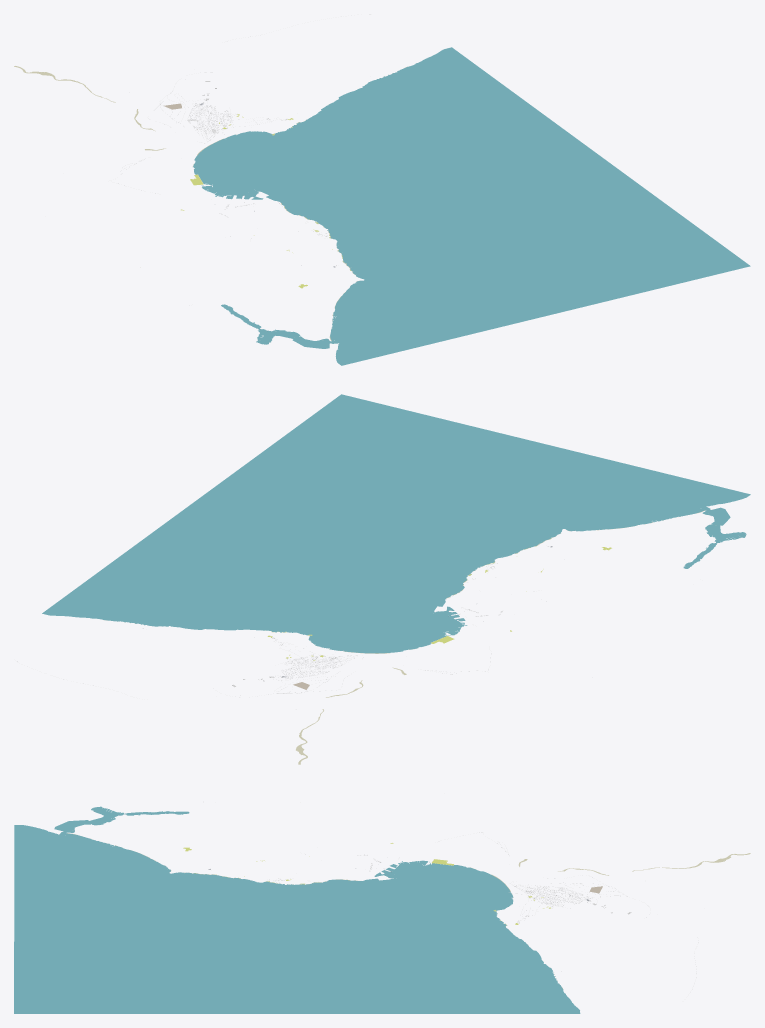
File: TILE_05_00.glb
3 views of the same model, one above another, from view 1: azimuth 30°, elevation 25°; view 2: azimuth 150°, elevation 25°; view 3: azimuth 270°, elevation 25° (orthographic). The views are drawn at different scales.
Visible parts, largest first — view 1: WEB_bay; view 2: WEB_bay; view 3: WEB_bay, WEB_natural_be.
Part boxes in pixels (x1,y1,x2,y2): WEB_bay: (193, 47, 750, 365); WEB_bay: (42, 394, 750, 653); WEB_bay: (14, 806, 580, 1013); WEB_natural_be: (67, 833, 750, 989).
Bounding box in the file's own units: 44940 × 7.4 × 63396.
